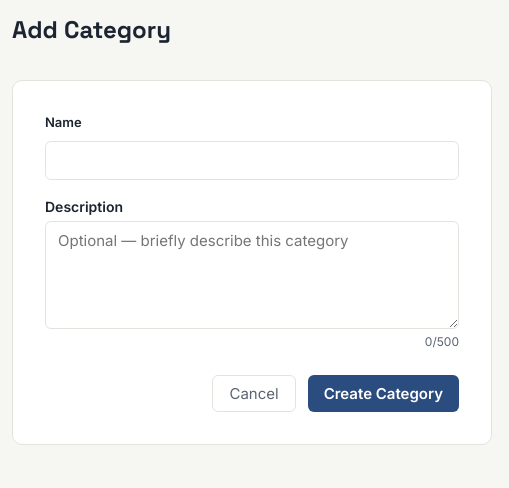
Scenario: CategoryForm › shows a validation error and does not submit if name is empty
Click the button "Create Category" at (383, 393), box [308,374,459,412]
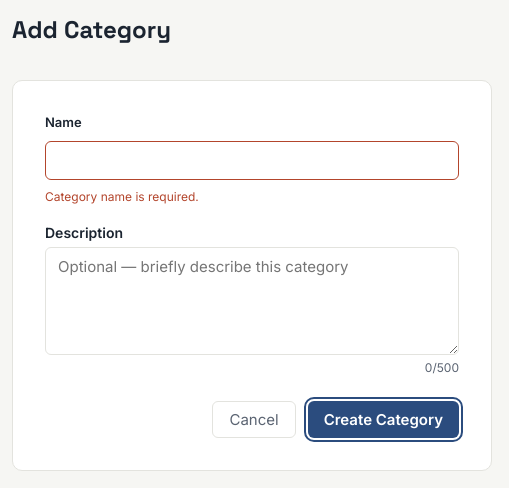
Expected: the text "Category name is required." is shown, [45,188,199,204]
